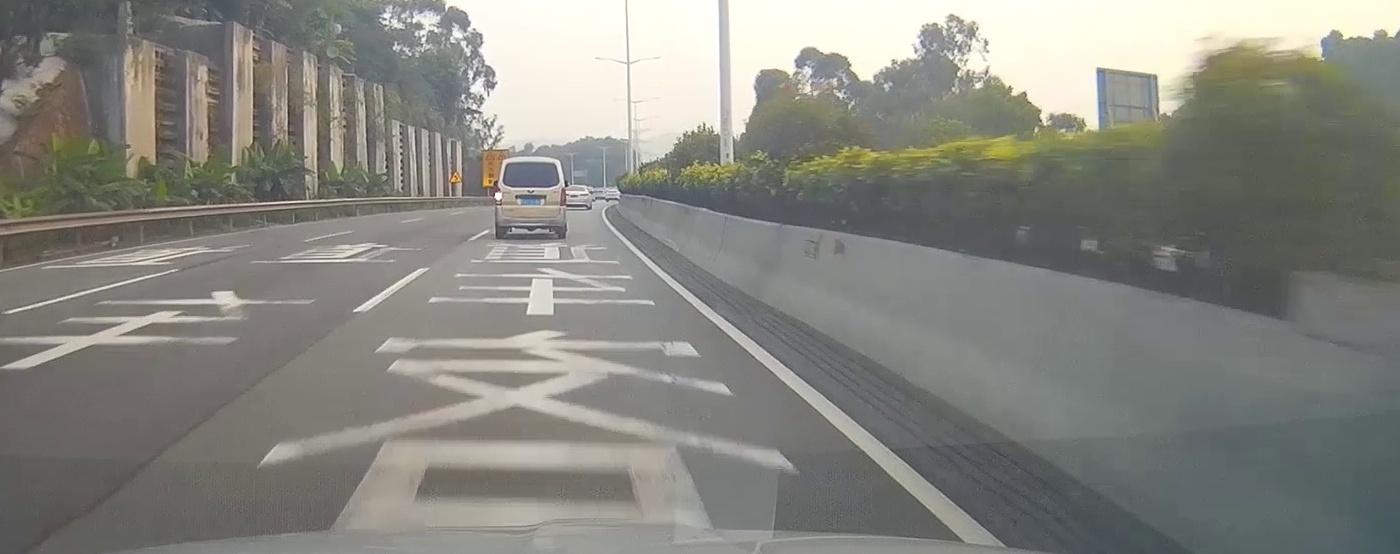L_light: (495, 187, 502, 206)
R_light: (559, 187, 566, 206)
T_light: (524, 161, 536, 165)
day-left: (495, 156, 567, 239)
